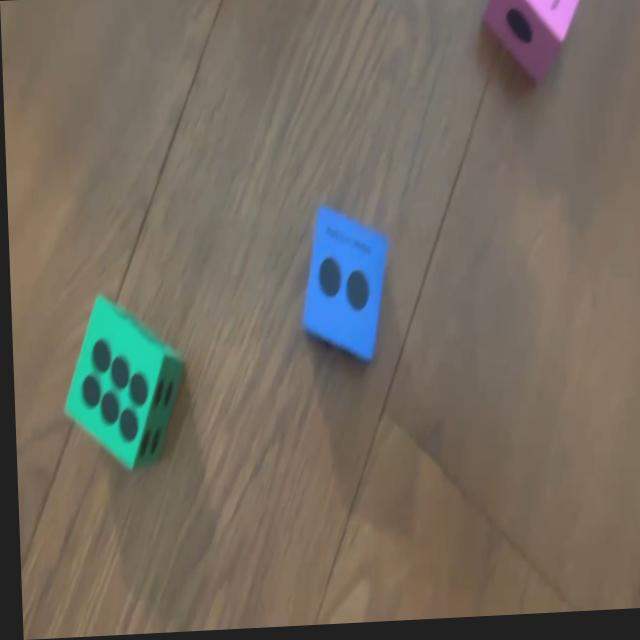blue_block: (296, 203, 391, 367)
